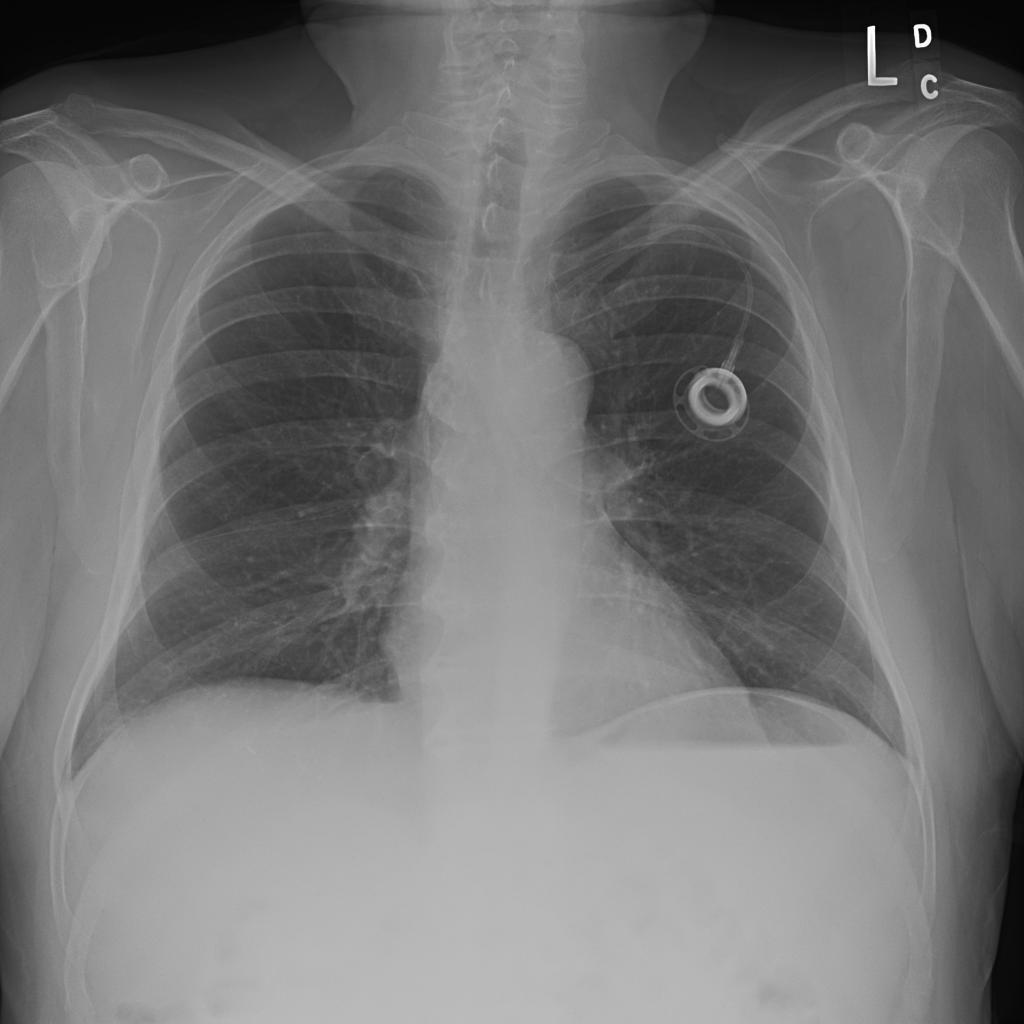Nodule: (170, 177, 199, 203), (140, 178, 166, 202), (171, 152, 195, 175)
